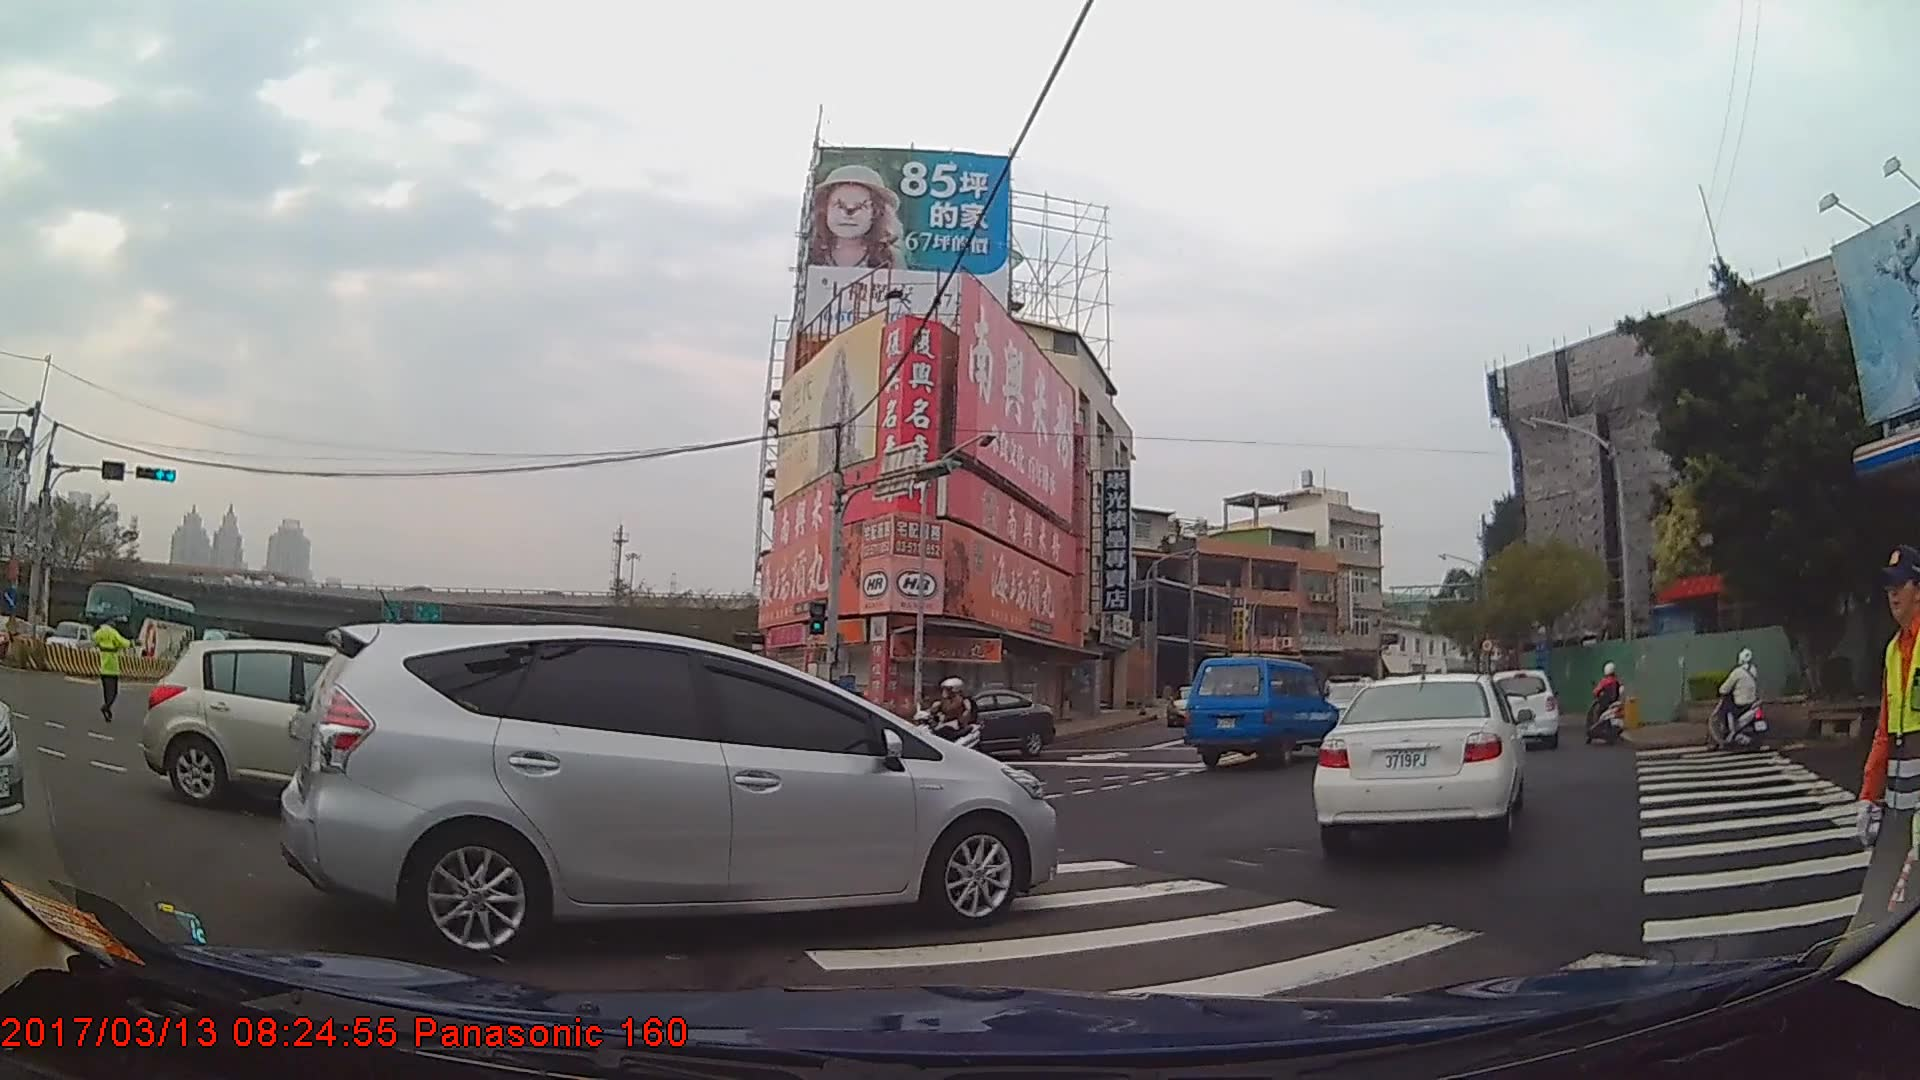pedestrian: (1830, 549, 1920, 996), (92, 615, 141, 727)
rider: (1706, 647, 1768, 754), (910, 683, 986, 768), (1587, 664, 1629, 746)
vehicle: (277, 617, 1061, 955), (143, 636, 453, 809), (1310, 672, 1523, 848), (1179, 655, 1331, 768), (81, 578, 196, 669), (907, 688, 1053, 759), (1484, 668, 1559, 751), (40, 618, 94, 663)
